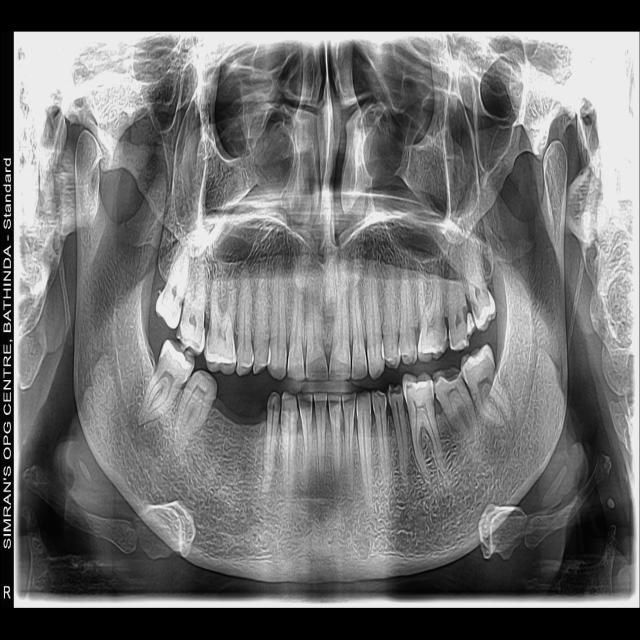Missing teeth: (218, 376, 253, 417), (250, 387, 269, 417)
